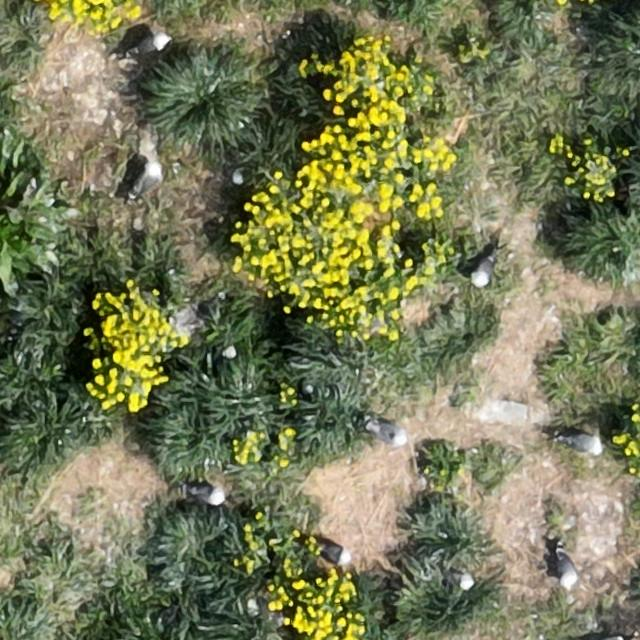umineko: (131, 161, 160, 195), (126, 35, 167, 56), (368, 424, 406, 446), (567, 434, 603, 454), (556, 554, 577, 588), (318, 542, 350, 564), (188, 485, 224, 504), (472, 256, 493, 286), (452, 572, 473, 590)
